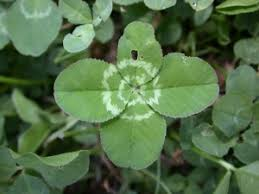4-clover: (57, 24, 219, 169)
